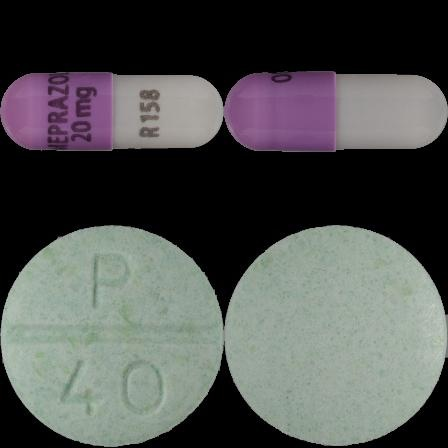49999-265: (0, 0, 224, 224)
